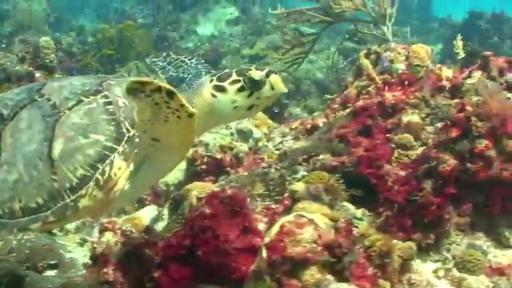Fish: (0, 54, 287, 231)
